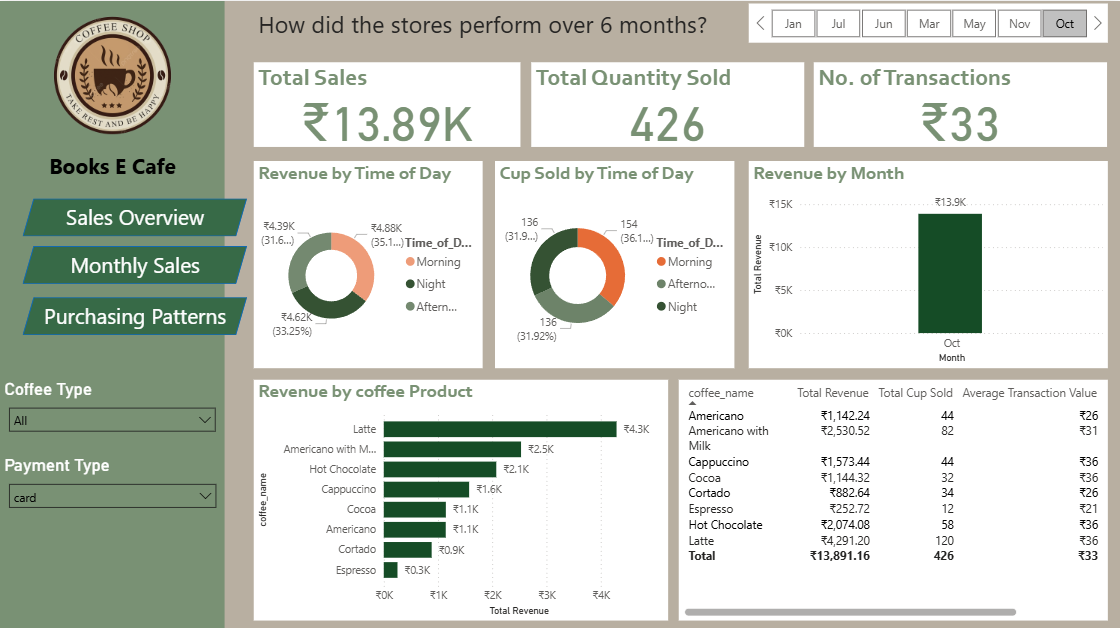

The dashboard page shown, as its layout file describes it:
{"tool":"powerbi","page":{"name":"DASHBOARD 2","canvas":[1280,720],"ordinal":1},"visuals":[{"type":"card","title":"Total Sales","fields":{"Values":["Coffee_Sales_Cleaned(py).Total Revenue"]},"box":[290,70,305,96.7],"z":0},{"type":"card","title":"Total Quantity Sold","fields":{"Values":["Coffee_Sales_Cleaned(py).Total Cup Sold"]},"box":[606.7,70,311.7,96.7],"z":1000},{"type":"card","title":"No. of Transactions","fields":{"Values":["Coffee_Sales_Cleaned(py).Average Transaction Value"]},"box":[930,70,335,96.7],"z":2000},{"type":"shape","box":[0,0,256.7,720],"z":3000},{"type":"textbox","box":[290,3.3,548.3,45],"z":4000},{"type":"slicer","fields":{"Values":["DateTable.Month"]},"box":[855,3.3,410,45],"z":5000},{"type":"donutChart","title":"Revenue by Time of Day","fields":{"Category":["Coffee_Sales_Cleaned(py).Time_of_Day"],"Y":["Coffee_Sales_Cleaned(py).Total Revenue"]},"box":[290,183.3,261.7,236.7],"z":6000},{"type":"donutChart","title":"Cup Sold by Time of Day","fields":{"Category":["Coffee_Sales_Cleaned(py).Time_of_Day"],"Y":["Coffee_Sales_Cleaned(py).Total Cup Sold"]},"box":[565,183.3,273.3,236.7],"z":7000},{"type":"clusteredColumnChart","title":"Revenue by Month","fields":{"Y":["Coffee_Sales_Cleaned(py).Total Revenue"],"Category":["DateTable.Month"]},"box":[855,183.3,410,236.7],"z":8000},{"type":"clusteredBarChart","title":"Revenue by coffee Product","fields":{"Category":["Coffee_Sales_Cleaned(py).coffee_name"],"Y":["Coffee_Sales_Cleaned(py).Total Revenue"]},"box":[290,433.3,473.3,275],"z":9000},{"type":"tableEx","fields":{"Values":["Coffee_Sales_Cleaned(py).coffee_name","Coffee_Sales_Cleaned(py).Total Revenue","Coffee_Sales_Cleaned(py).Total Cup Sold","Coffee_Sales_Cleaned(py).Average Transaction Value","Coffee_Sales_Cleaned(py).Product Revenue %"]},"box":[775,433.3,490,275],"z":10000},{"type":"shape","box":[25,338.3,256.7,43.3],"z":11000},{"type":"shape","box":[25,280,256.7,43.3],"z":12000},{"type":"shape","box":[25,225,256.7,43.3],"z":13000},{"type":"textbox","box":[38.3,225,231.7,43.3],"z":14000},{"type":"textbox","box":[38.3,280,231.7,43.3],"z":15000},{"type":"textbox","box":[38.3,338.3,231.7,43.3],"z":16000},{"type":"slicer","title":"Payment Type","fields":{"Values":["Coffee_Sales_Cleaned(py).cash_type"]},"box":[0,520,257.1,72.9],"z":17000},{"type":"slicer","title":"Coffee Type","fields":{"Values":["Coffee_Sales_Cleaned(py).Coffee-type"]},"box":[0,433.3,256.7,76.7],"z":18000},{"type":"textbox","box":[0,167.1,257.1,45.7],"z":19000},{"type":"image","box":[38.6,0,180,167.1],"z":19001}]}

Visuals, with their boxes in screenshot pixels (x1, y1, x2, y2), scaled from the page's 1280x720 canvas onto the 1120x628 screenshot:
"Total Sales" card: (left=254, top=61, right=521, bottom=145)
"Total Quantity Sold" card: (left=531, top=61, right=804, bottom=145)
"No. of Transactions" card: (left=814, top=61, right=1107, bottom=145)
shape: (left=0, top=0, right=225, bottom=627)
textbox: (left=254, top=3, right=734, bottom=42)
slicer - DateTable.Month: (left=748, top=3, right=1107, bottom=42)
"Revenue by Time of Day" donutChart: (left=254, top=160, right=483, bottom=366)
"Cup Sold by Time of Day" donutChart: (left=494, top=160, right=734, bottom=366)
"Revenue by Month" clusteredColumnChart: (left=748, top=160, right=1107, bottom=366)
"Revenue by coffee Product" clusteredBarChart: (left=254, top=378, right=668, bottom=618)
tableEx - Coffee_Sales_Cleaned(py).coffee_name x Coffee_Sales_Cleaned(py).Total Revenue: (left=678, top=378, right=1107, bottom=618)
shape: (left=22, top=295, right=246, bottom=333)
shape: (left=22, top=244, right=246, bottom=282)
shape: (left=22, top=196, right=246, bottom=234)
textbox: (left=34, top=196, right=236, bottom=234)
textbox: (left=34, top=244, right=236, bottom=282)
textbox: (left=34, top=295, right=236, bottom=333)
"Payment Type" slicer: (left=0, top=454, right=225, bottom=517)
"Coffee Type" slicer: (left=0, top=378, right=225, bottom=445)
textbox: (left=0, top=146, right=225, bottom=186)
image: (left=34, top=0, right=191, bottom=146)
